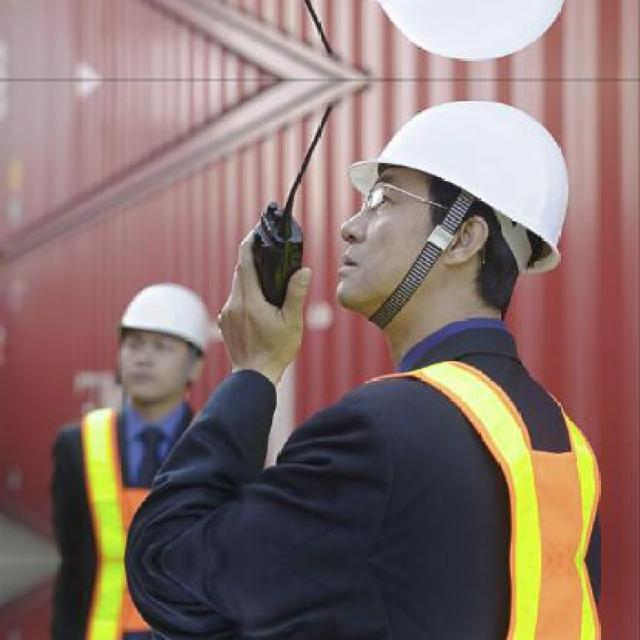Reflective-Jacket: (346, 352, 625, 637), (6, 400, 222, 638)
Safety-Helmet: (342, 96, 584, 270), (100, 272, 237, 368)
